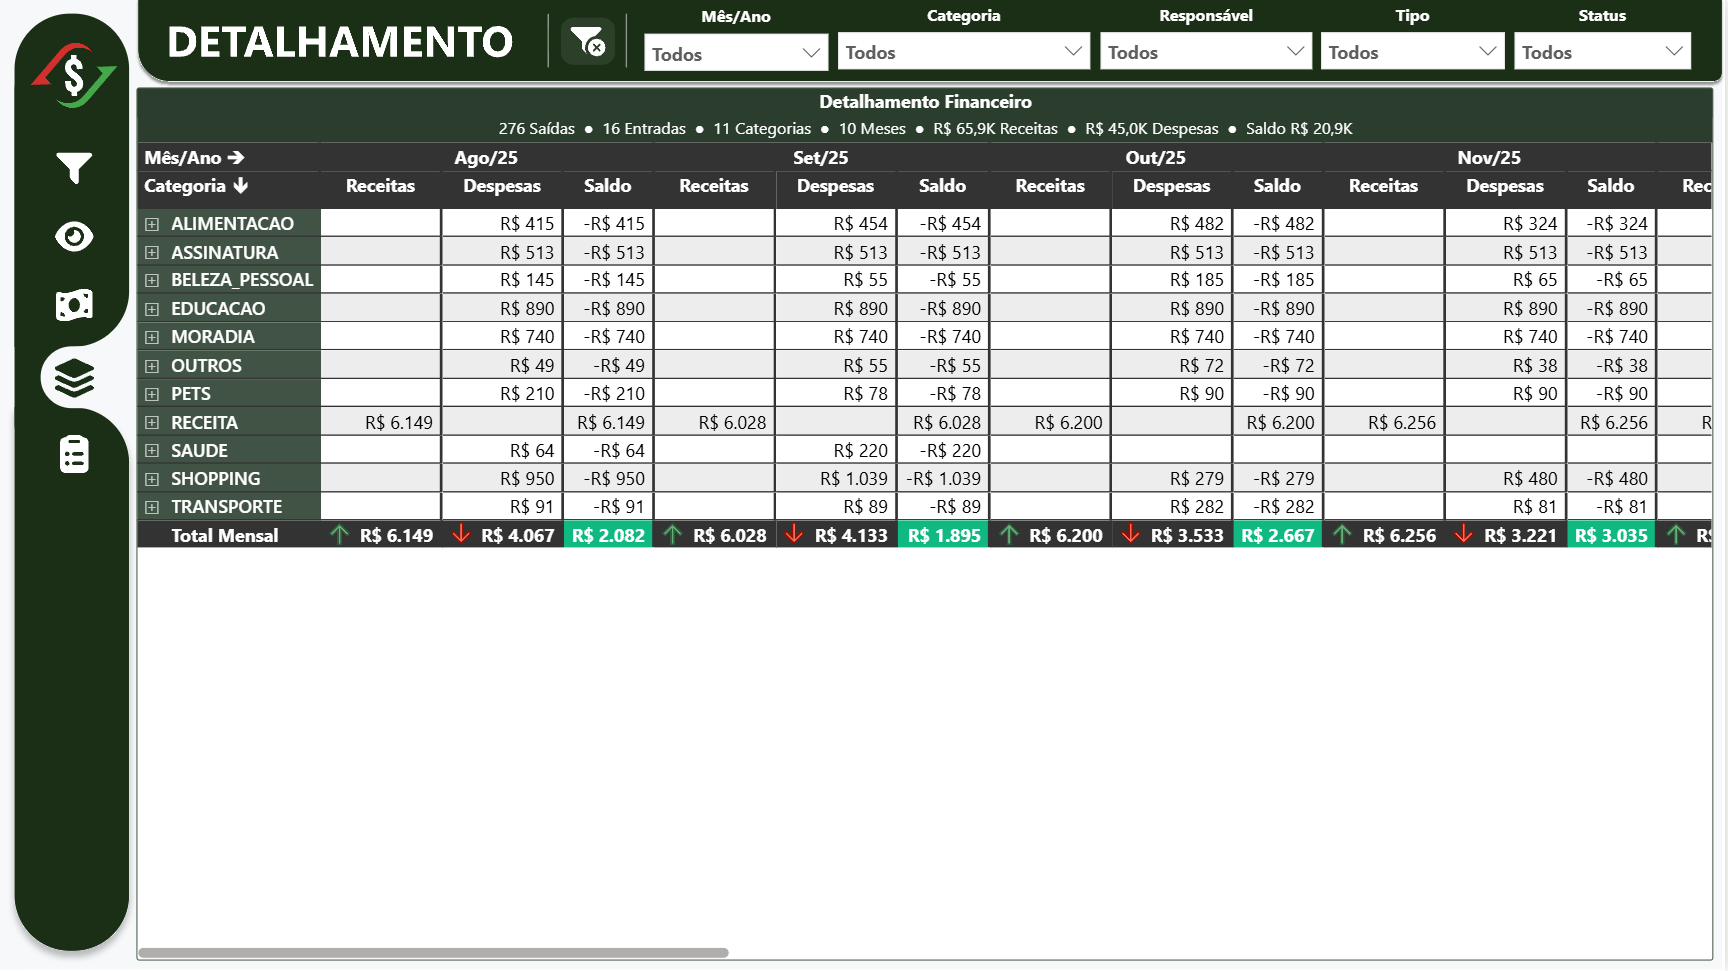

Layout of this report page (visuals, bound fields, positions):
{"tool":"powerbi","page":{"name":"DETALHAMENTO","canvas":[1280,720],"ordinal":3},"visuals":[{"type":"slicer","title":"Status","fields":{"Values":["Fact_Lancamentos.STATUS"]},"box":[1119.7,3,140.9,60.7],"z":0,"group":"g3"},{"type":"actionButton","title":"btn_registros","box":[36.2,316.9,40,40],"z":0,"group":"g2"},{"type":"slicer","title":"Tipo","fields":{"Values":["Fact_Lancamentos.TIPO"]},"box":[976.4,3.5,146.2,60.7],"z":1000,"group":"g3"},{"type":"actionButton","title":"btn_detalhamento","box":[36.8,261.9,40,40],"z":1000,"group":"g2"},{"type":"group","id":"g1","title":"g_topbar","box":[408.9,3,851.6,61.4],"z":2000},{"type":"slicer","title":"Responsável","fields":{"Values":["Fact_Lancamentos.RESPONSAVEL"]},"box":[812.2,3,167.1,60.7],"z":2000,"group":"g3"},{"type":"actionButton","title":"btn_lancamentos","box":[36,206.7,40,40],"z":2000,"group":"g2"},{"type":"pivotTable","title":"Detalhamento Financeiro","fields":{"Columns":["Dim_Calendario.MesAnoTexto"],"Rows":["Fact_Lancamentos.CATEGORIA","Fact_Lancamentos.SERVICO","Fact_Lancamentos.DESCRICAO"],"Values":["_Medidas.Receitas","_Medidas.Despesas","_Medidas.Saldo"]},"box":[103.3,65.6,1167.8,646.7],"z":2500},{"type":"group","id":"g2","title":"g_btn_navegção","box":[23.1,26.7,67.4,330.2],"z":2750},{"type":"slicer","title":"Categoria","fields":{"Values":["Fact_Lancamentos.CATEGORIA"]},"box":[618.1,3,197.1,60.7],"z":3000,"group":"g3"},{"type":"actionButton","title":"btn_visao_geral","box":[36,155.5,40,40],"z":3000,"group":"g2"},{"type":"slicer","title":"Mês/Ano","fields":{"Values":["Dim_Calendario.MesAnoTexto"]},"box":[474.8,3.7,146.2,60.7],"z":4000,"group":"g3"},{"type":"actionButton","title":"btn_menu_on","box":[36,105,40,40],"z":4000,"group":"g2"},{"type":"group","id":"g3","title":"g_filtros","box":[474.8,3,785.7,61.4],"z":4500,"group":"g1"},{"type":"actionButton","title":"btn_reset_filtros_rapidos","box":[408.9,7.3,54.5,49.3],"z":5000,"group":"g1"},{"type":"actionButton","title":"btn_home","box":[23.1,26.7,67.4,60.9],"z":5000,"group":"g2"}]}

Visuals, with their boxes in screenshot pixels (x1, y1, x2, y2), scaled from the page's 1280x720 canvas onto the 1728x971 screenshot:
"Status" slicer: left=1512, top=4, right=1702, bottom=86
"btn_registros" actionButton: left=49, top=427, right=103, bottom=481
"Tipo" slicer: left=1318, top=5, right=1516, bottom=87
"btn_detalhamento" actionButton: left=50, top=353, right=104, bottom=407
"g_topbar" group: left=552, top=4, right=1702, bottom=87
"Responsável" slicer: left=1096, top=4, right=1322, bottom=86
"btn_lancamentos" actionButton: left=49, top=279, right=103, bottom=333
"Detalhamento Financeiro" pivotTable: left=139, top=88, right=1716, bottom=961
"g_btn_navegção" group: left=31, top=36, right=122, bottom=481
"Categoria" slicer: left=834, top=4, right=1101, bottom=86
"btn_visao_geral" actionButton: left=49, top=210, right=103, bottom=264
"Mês/Ano" slicer: left=641, top=5, right=838, bottom=87
"btn_menu_on" actionButton: left=49, top=142, right=103, bottom=196
"g_filtros" group: left=641, top=4, right=1702, bottom=87
"btn_reset_filtros_rapidos" actionButton: left=552, top=10, right=626, bottom=76
"btn_home" actionButton: left=31, top=36, right=122, bottom=118
